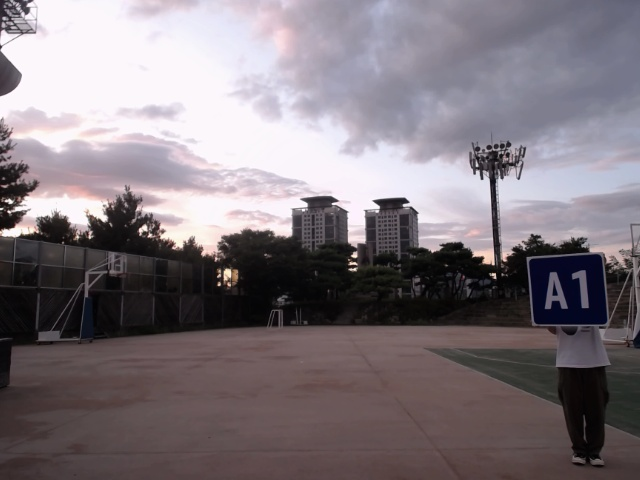delivery_a1: (528, 253, 609, 326)
